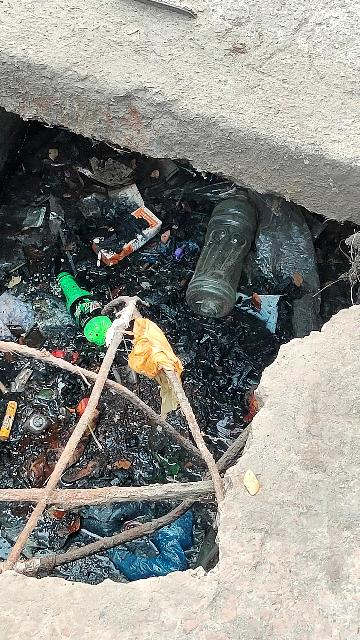bottle: (179, 186, 274, 317), (45, 263, 117, 345)
